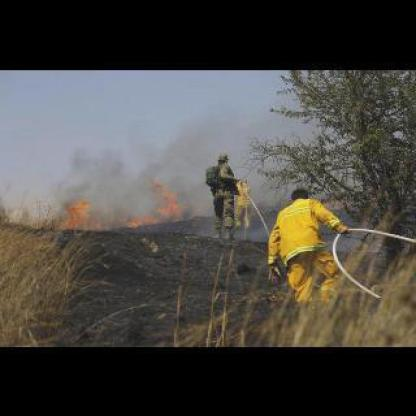fire: (50, 168, 191, 228)
